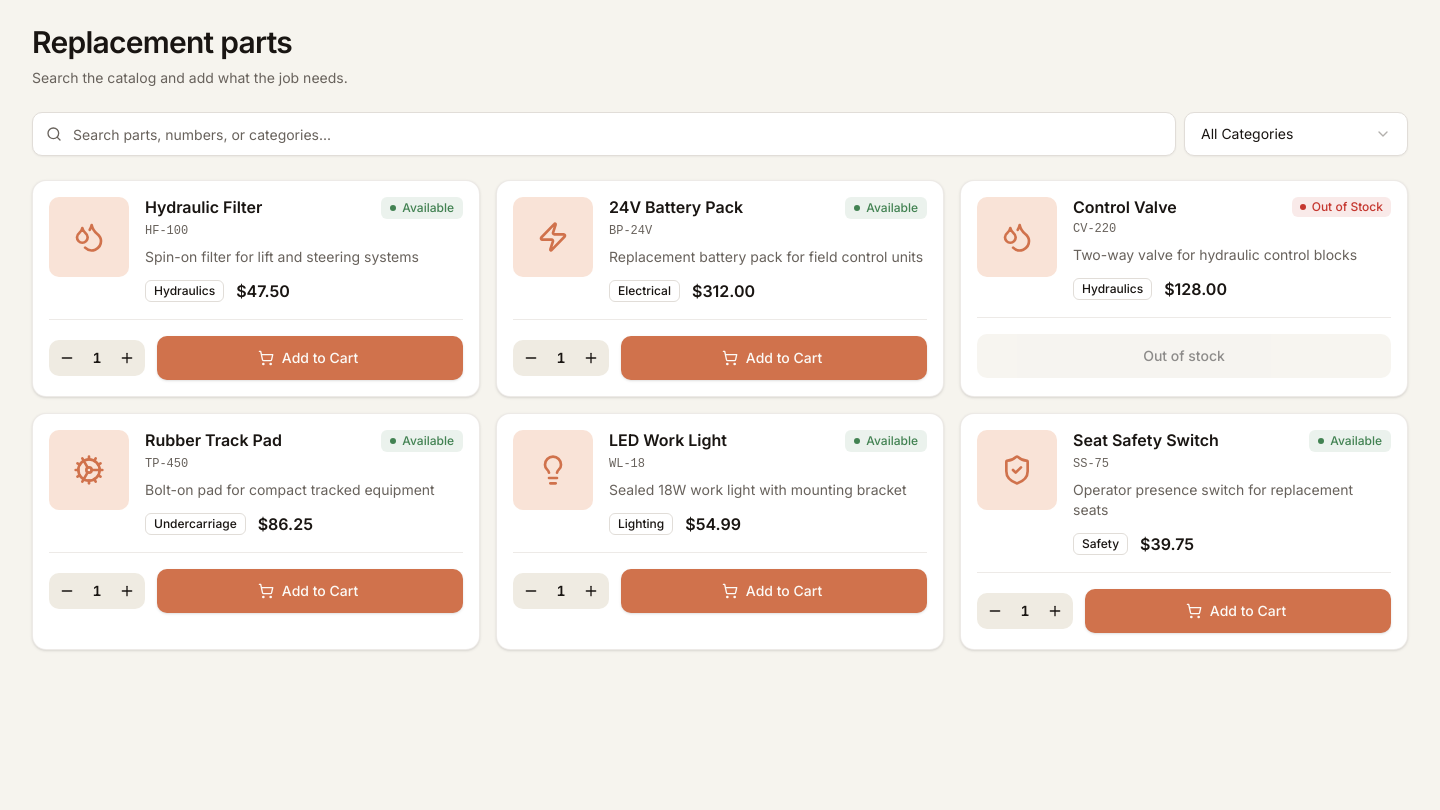
Parts app › searches by part number and keeps out of stock parts unavailable
This screenshot has width=1440, height=810.
In the field labelled "Search parts": (604, 134) [32, 112, 1176, 156], type "CV-220"
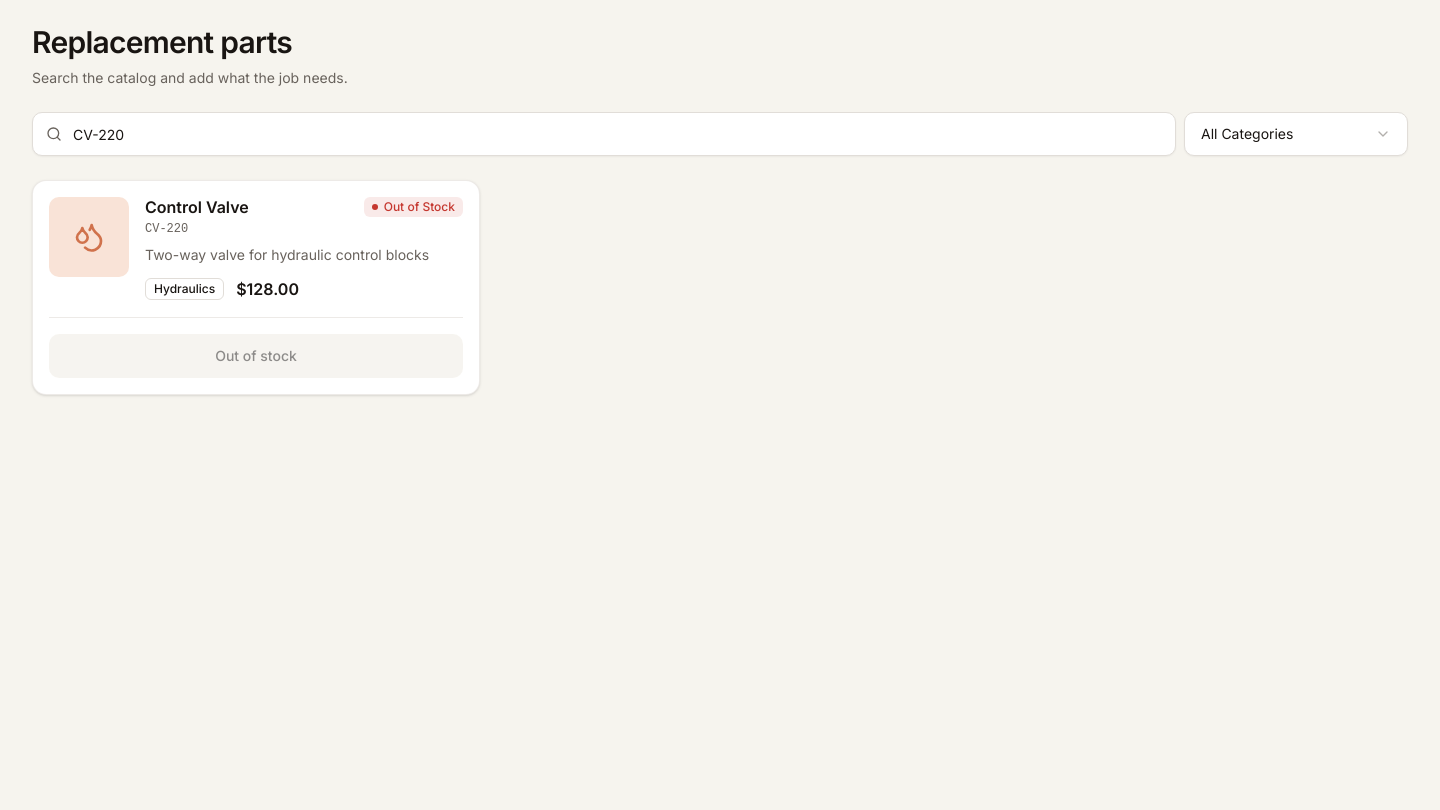
Check: the heading "Control Valve" is shown, box [145, 197, 249, 217]
Check: the heading "Hydraulic Filter" is gone
